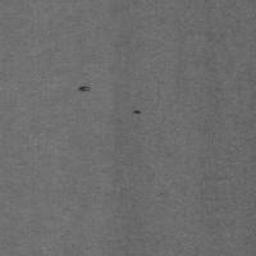Inclusion: (77, 86, 92, 92), (133, 109, 142, 115)
